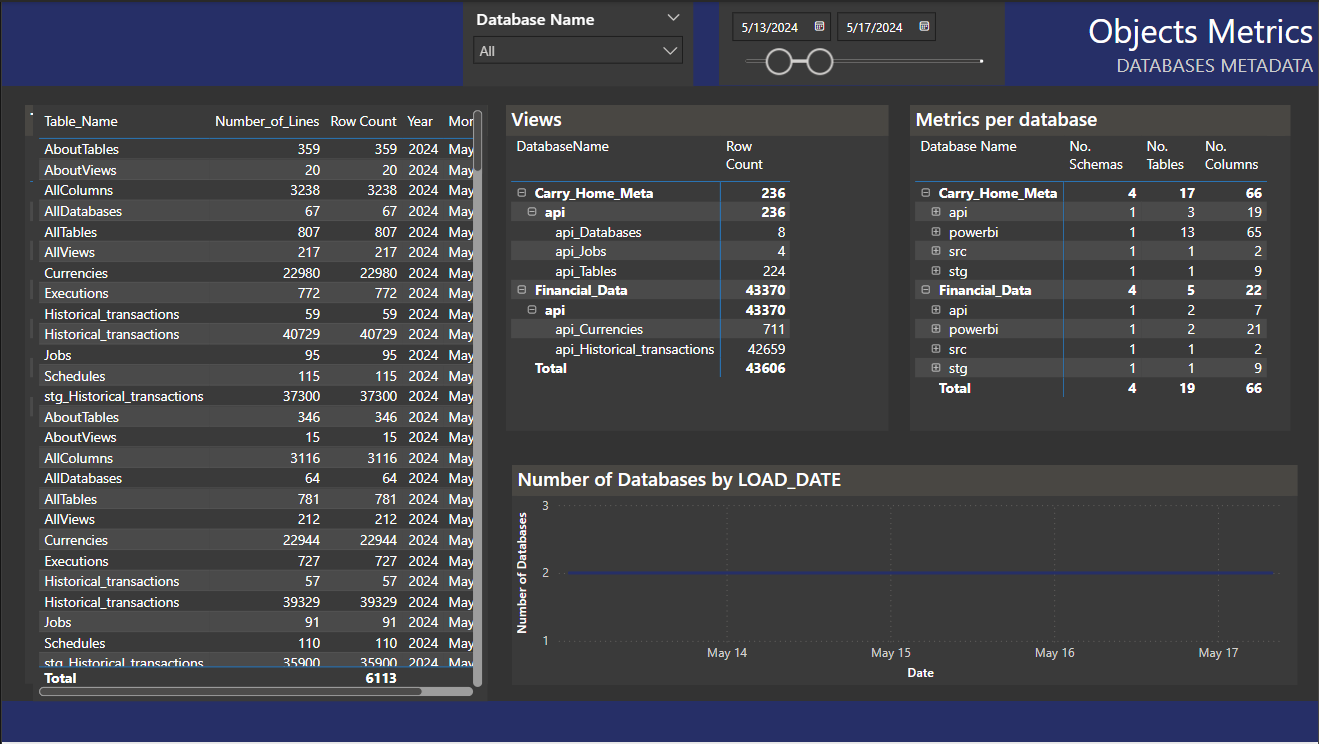

What the dashboard file says about the page in this screenshot:
{"tool":"powerbi","page":{"name":"Databases objects metrics","canvas":[1280,720],"ordinal":1},"visuals":[{"type":"group","id":"g1","title":"Bars","box":[0,0,1280,720],"z":0},{"type":"shape","title":"Top bar","box":[0,0,1280,81.7],"z":0,"group":"g1"},{"type":"textbox","title":"Title","box":[671.7,0,608.3,81.7],"z":1000},{"type":"shape","title":"Bottom bar","box":[0,680,1280,40],"z":1000,"group":"g1"},{"type":"pivotTable","title":"Views","fields":{"Values":["Sum(powerbi AboutViews.Number_of_Lines)"],"Rows":["powerbi AllViews.DatabaseName","powerbi AllViews.SchemaName","powerbi AllViews.View_Name"]},"box":[490,100,371.7,316.7],"z":2000},{"type":"pivotTable","title":"Tables","fields":{"Rows":["api api_Tables.DatabaseName","api api_Tables.SchemaName","powerbi AboutTables.Table_Name"],"Values":["Sum(powerbi AboutTables.Number_of_Lines)","powerbi AboutTables.Row Count","Sum(powerbi AboutTables.Used_Space_KB)"]},"box":[22.7,99.9,449.7,563.3],"z":3000},{"type":"lineChart","fields":{"Category":["powerbi AllDatabases.LOAD_DATE.Variation.Date Hierarchy.Year"],"Y":["Count(powerbi AllDatabases.Databse_Id)"]},"box":[496,450,764,214],"z":4000},{"type":"slicer","title":"Date","fields":{"Values":["Dates.Date"]},"box":[697.3,0,277.8,81.3],"z":5000},{"type":"slicer","title":"Database Name","fields":{"Values":["api api_Databases.DatabseName"]},"box":[448,0,224,82],"z":6000},{"type":"pivotTable","title":"Metrics per database","fields":{"Rows":["powerbi AllColumns.DatabaseName","powerbi AllColumns.SchemaName","powerbi AllColumns.Table_Name"],"Values":["Count(powerbi AllColumns.SchemaName)","Count(powerbi AllColumns.Table_Name)","Count(powerbi AllColumns.Column_Name)"]},"box":[883.3,100,370,316.7],"z":7000},{"type":"tableEx","fields":{"Values":["powerbi AboutTables.Table_Name","powerbi AboutTables.Number_of_Lines","powerbi AboutTables.Row Count","powerbi AboutTables.LOAD_DATE.Variation.Date Hierarchy.Year","powerbi AboutTables.LOAD_DATE.Variation.Date Hierarchy.Month","powerbi AboutTables.LOAD_DATE.Variation.Date Hierarchy.Day"]},"box":[30.2,100.2,441.6,579.7],"z":8000}]}

Visuals, with their boxes in screenshot pixels (x1, y1, x2, y2), scaled from the page's 1280x720 canvas onto the 1319x744 screenshot:
"Bars" group: 0:0:1318:743
"Top bar" shape: 0:0:1318:84
"Title" textbox: 692:0:1318:84
"Bottom bar" shape: 0:703:1318:743
"Views" pivotTable: 505:103:888:431
"Tables" pivotTable: 23:103:487:685
lineChart - powerbi AllDatabases.LOAD_DATE.Variation.Date Hierarchy.Year x Count(powerbi AllDatabases.Databse_Id): 511:465:1298:686
"Date" slicer: 719:0:1005:84
"Database Name" slicer: 462:0:692:85
"Metrics per database" pivotTable: 910:103:1291:431
tableEx - powerbi AboutTables.Table_Name x powerbi AboutTables.Number_of_Lines: 31:104:486:703
